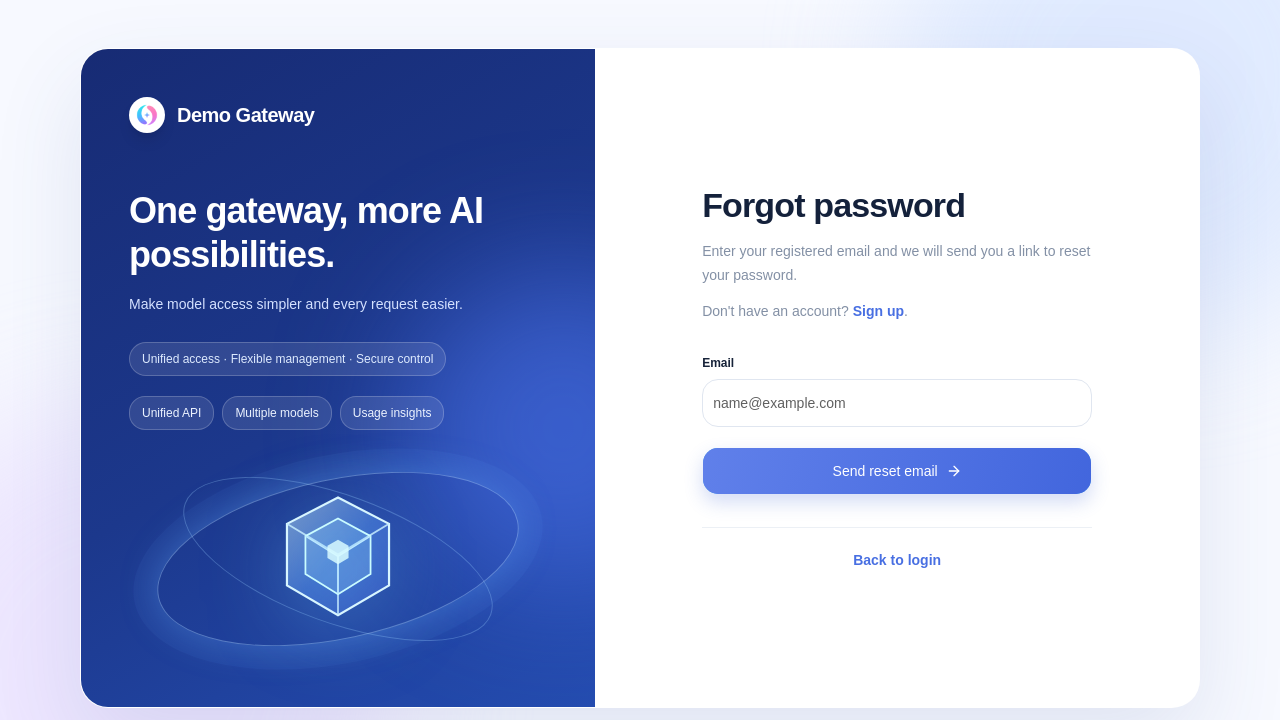
recovery uses the shared brand layout and rejects invalid email without sending a request
The image size is (1280, 720).
expect the heading "Forgot password" is shown: met, box [702, 186, 965, 224]
expect the element "Forgot password" is shown: met, box [595, 49, 1199, 707]
Click the button "Send reset email" at point(897, 471), box [702, 447, 1092, 495]
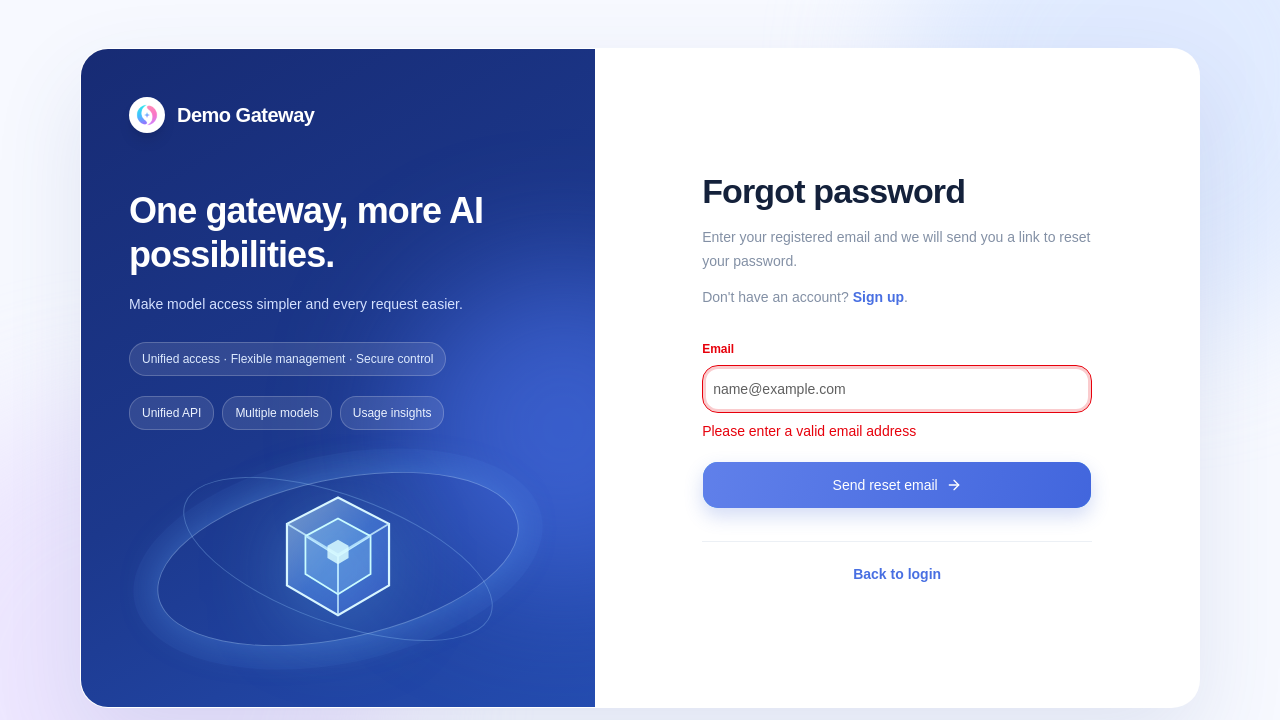
expect the text "Please enter a valid email address" is shown: met, box [702, 423, 916, 439]
